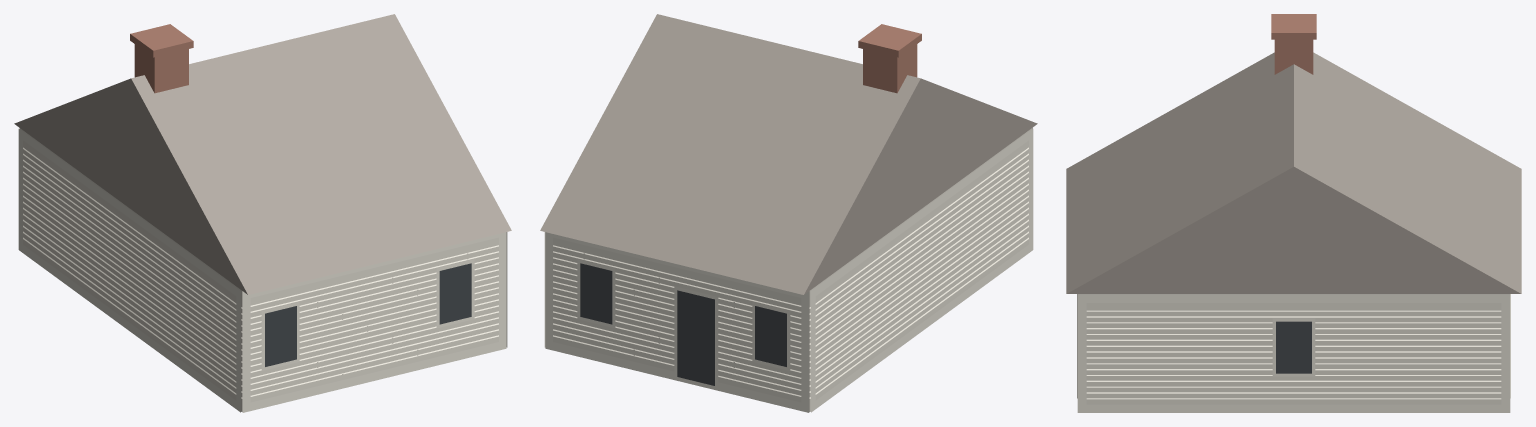
File: recon_1835_blk_lake_clark_d5_03__inferred_1835.glb
3 views of the same model, side by side, from view 1: azimuth 30°, elevation 25°; view 2: azimuth 150°, elevation 25°; view 3: azimuth 270°, elevation 25° (orthographic). The views are drawn at different scales.
Visible parts, largest first — view 1: recon_1835_blk_lake_clark_d5_03__inferred_1835; view 2: recon_1835_blk_lake_clark_d5_03__inferred_1835; view 3: recon_1835_blk_lake_clark_d5_03__inferred_1835.
Boxes of the visible parts, x1=… form: recon_1835_blk_lake_clark_d5_03__inferred_1835: x1=14, y1=14, x2=511, y2=412; recon_1835_blk_lake_clark_d5_03__inferred_1835: x1=540, y1=14, x2=1037, y2=412; recon_1835_blk_lake_clark_d5_03__inferred_1835: x1=1066, y1=14, x2=1521, y2=412.
Bounding box in the file's own units: 6.52 × 6.67 × 9.9.
